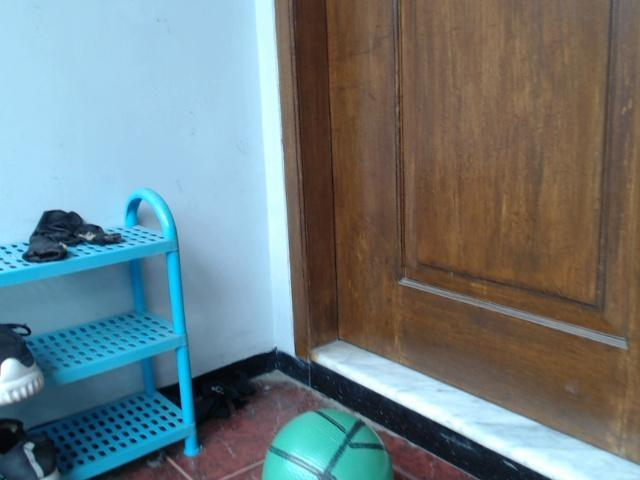Sports-Ball: (257, 399, 394, 480)
